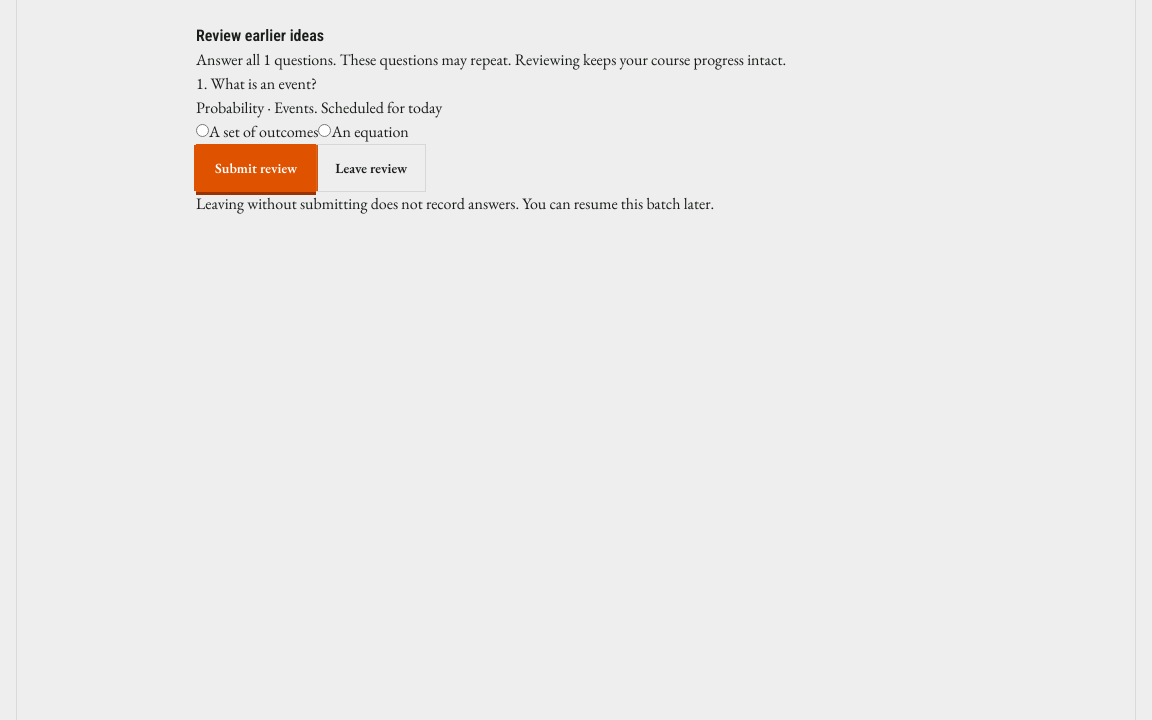
Test: shows saved feedback and dates after submission
Click the radio button labelled "A set of outcomes" at (202, 130), box top-left (196, 124), bottom-right (209, 137)
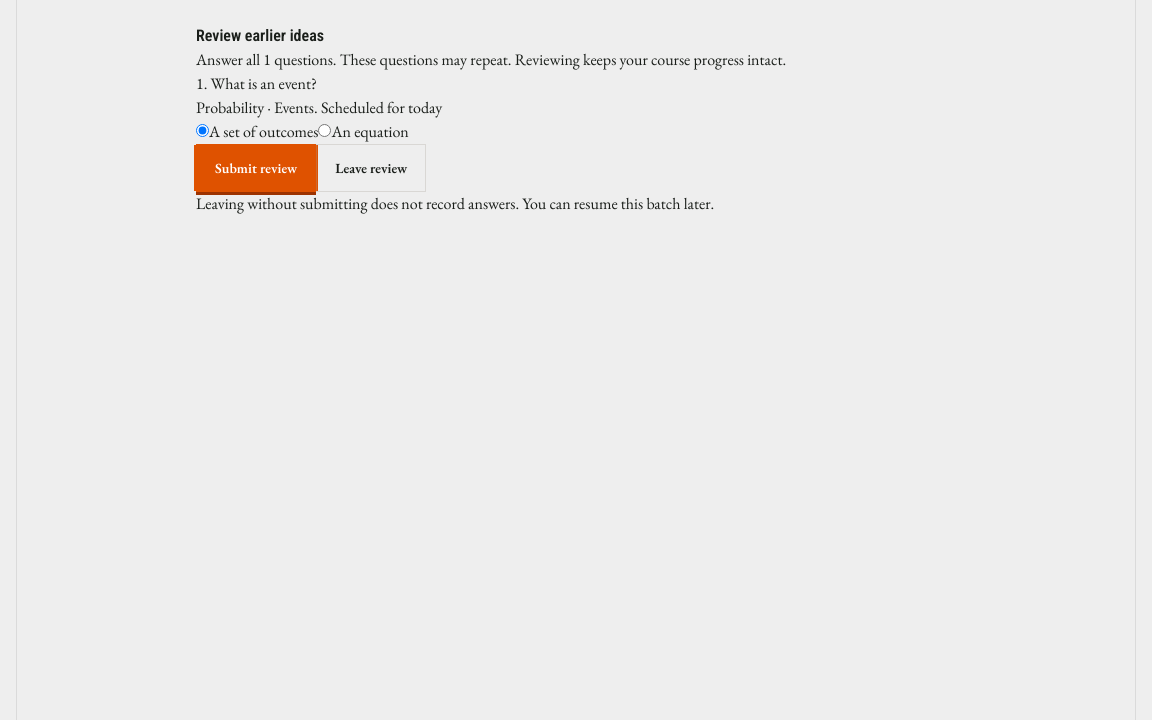
Click the button "Submit review" at (256, 168), box top-left (196, 144), bottom-right (316, 192)
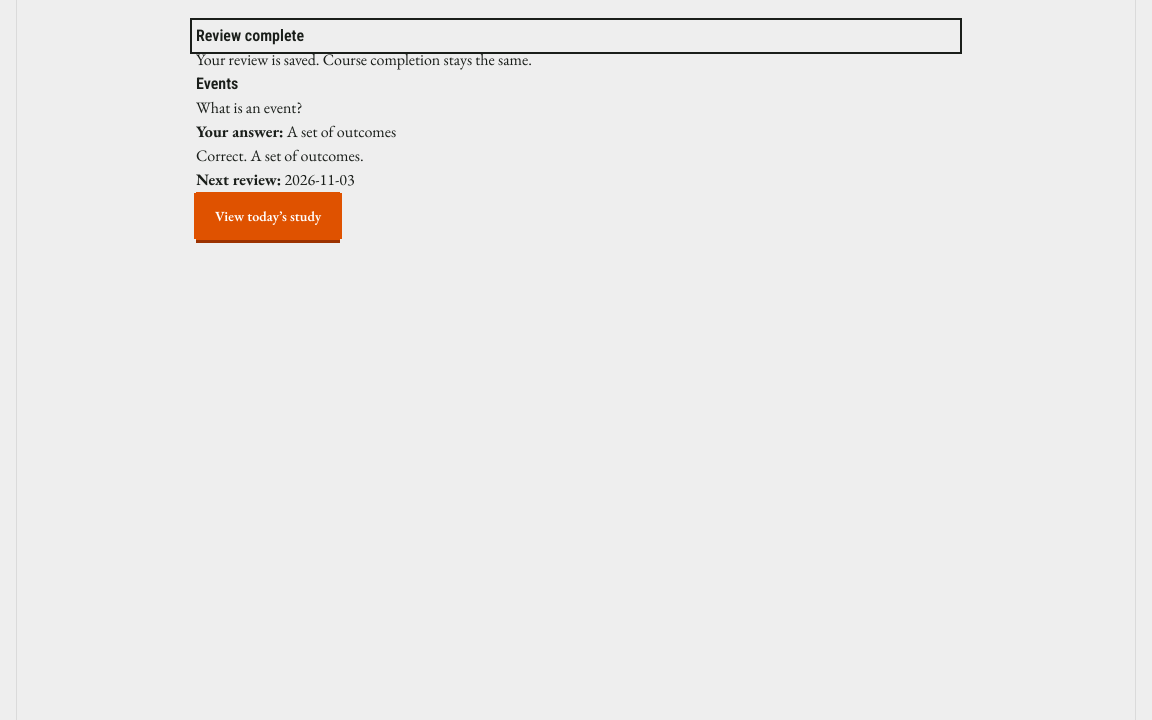
Check: the text "2026-11-03" is shown, box top-left (284, 169), bottom-right (355, 190)
